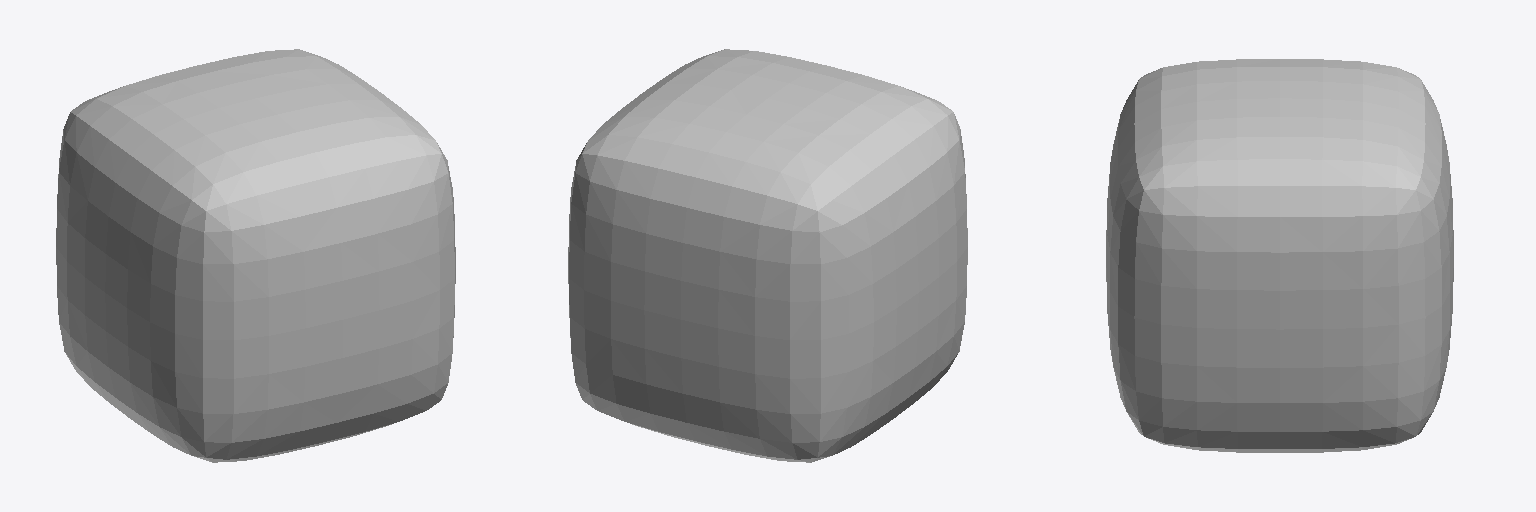
File: CubeRounded.obj
3 renders of one model, left to right at view 1: azimuth 30°, elevation 25°; view 2: azimuth 150°, elevation 25°; view 3: azimuth 270°, elevation 25°, orthographic.
Visible parts, largest first — view 1: Cube.003_Cube.005; view 2: Cube.003_Cube.005; view 3: Cube.003_Cube.005.
Boxes of the visible parts, box(x1,y1,x2,y2) form: Cube.003_Cube.005: box(56, 49, 455, 462); Cube.003_Cube.005: box(568, 49, 967, 462); Cube.003_Cube.005: box(1106, 59, 1453, 452).
Size of the model in its own units: 199 by 199 by 199.